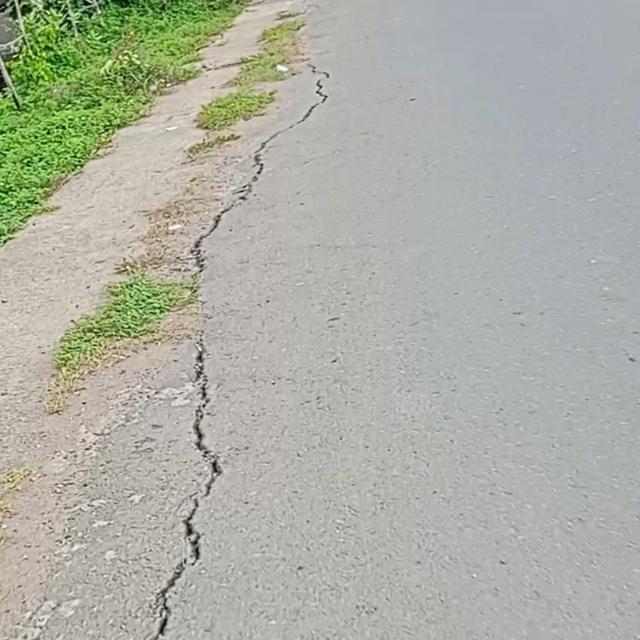Memanjang: (138, 49, 345, 640)
